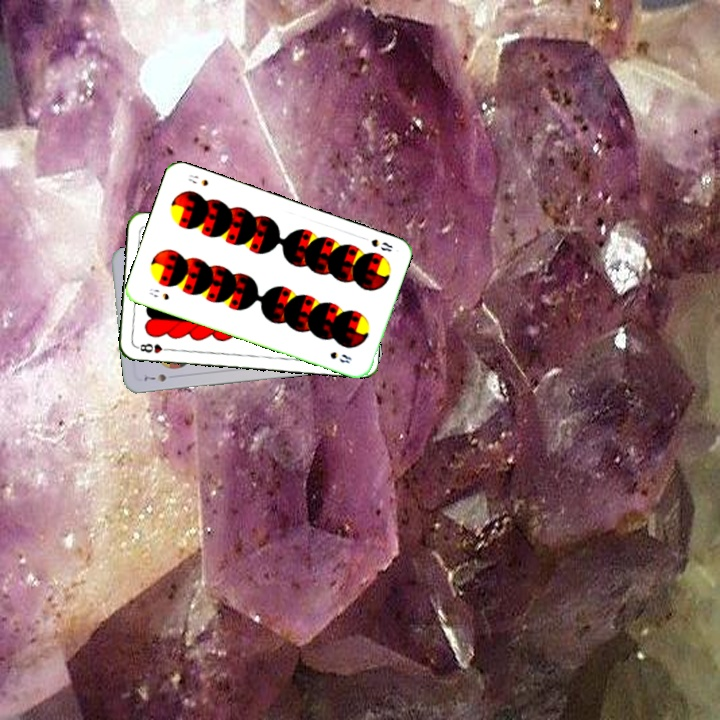H8: (133, 339, 174, 355)
S7: (140, 370, 169, 384)
S8: (367, 235, 395, 255), (145, 284, 172, 303)
